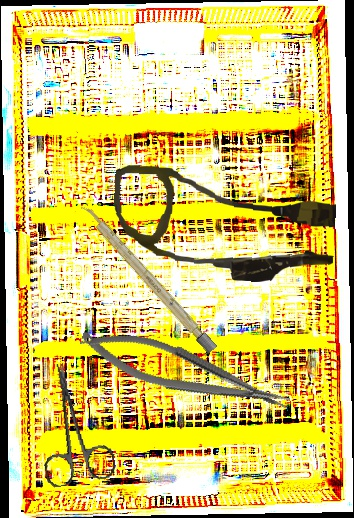Cannula: (110, 164, 338, 286)
Iris Scissors: (27, 357, 118, 489)
Needle Holder: (74, 314, 295, 431)
Scalpel Handle: (78, 201, 218, 355)
